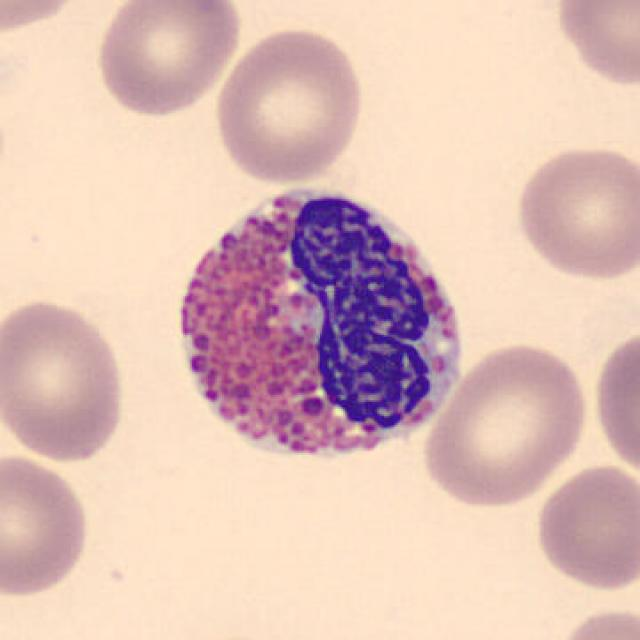Eosinophil: (156, 164, 478, 488)
RBC: (416, 338, 594, 510), (210, 23, 368, 187), (0, 293, 132, 467), (510, 139, 638, 284), (91, 0, 245, 120), (530, 460, 638, 594), (0, 450, 94, 601), (549, 0, 640, 92), (590, 322, 638, 487), (0, 0, 87, 39), (550, 603, 638, 640)
